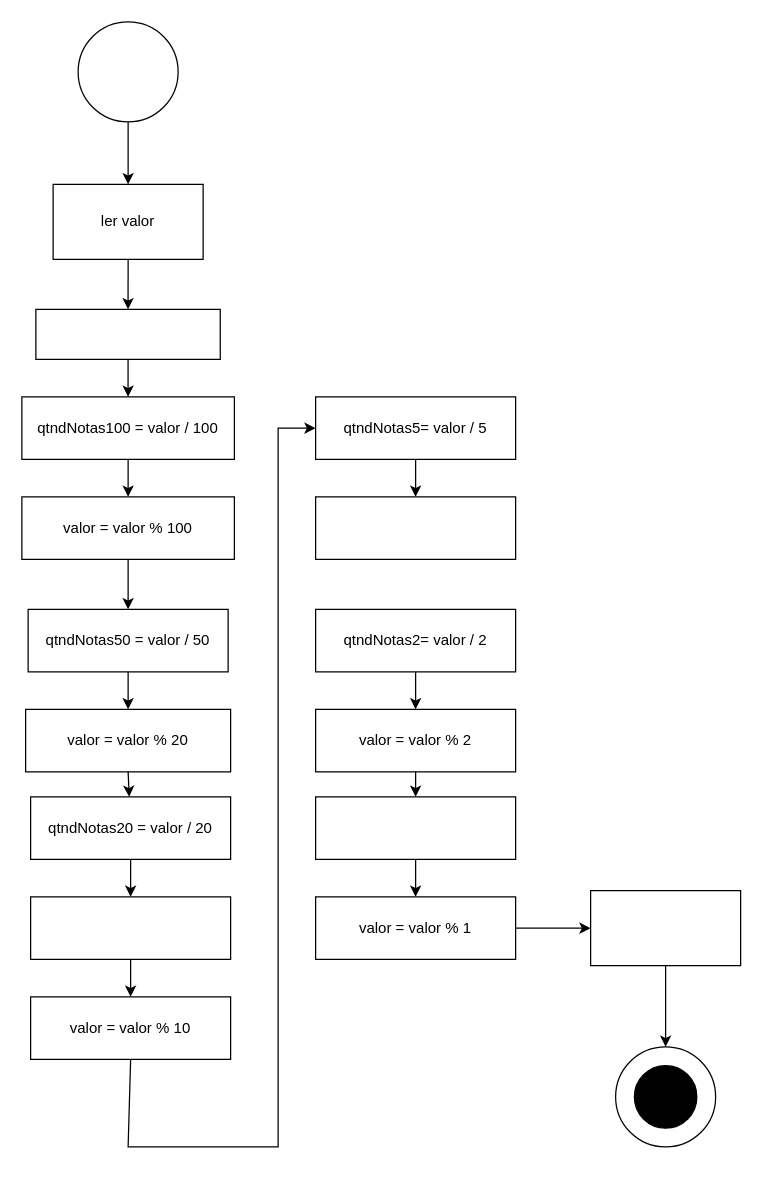
Some shapes in this 763 by 1179 pixel diagram are drawn without their labels. The shapes that lost their labels are listed below. From the top down, each one's centre as x and y in pixels, then its label:
point 127,333: decomposicao de valores
point 415,527: valor = valor % 5
point 415,827: qtndNotas1= valor / 1
point 130,927: qtndNotas10 = valor / 10
point 665,927: escrever resultado
